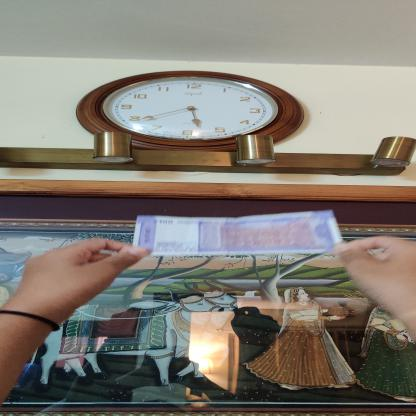New100Back: (132, 210, 344, 254)
